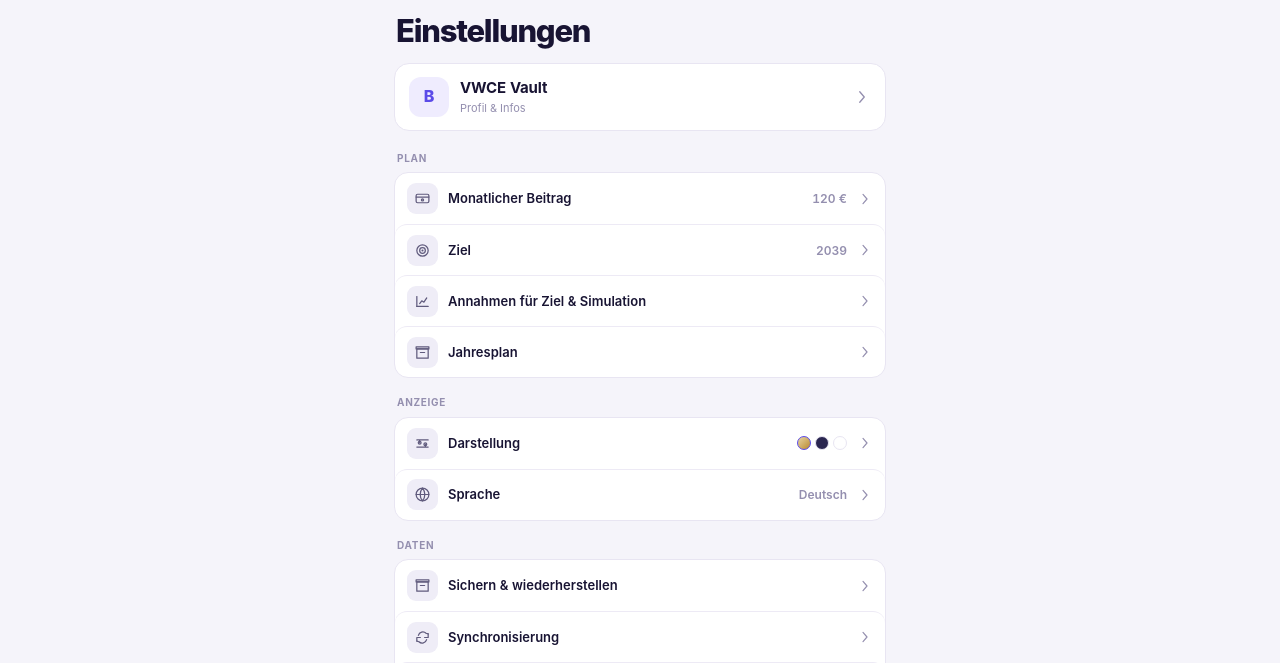
SettingsCboWorkspace yearly plan › keeps the yearly table localized in German
Click the button "Jahresplan".
click(422, 352)  # box [395,326,885,377]
(page scrolled)
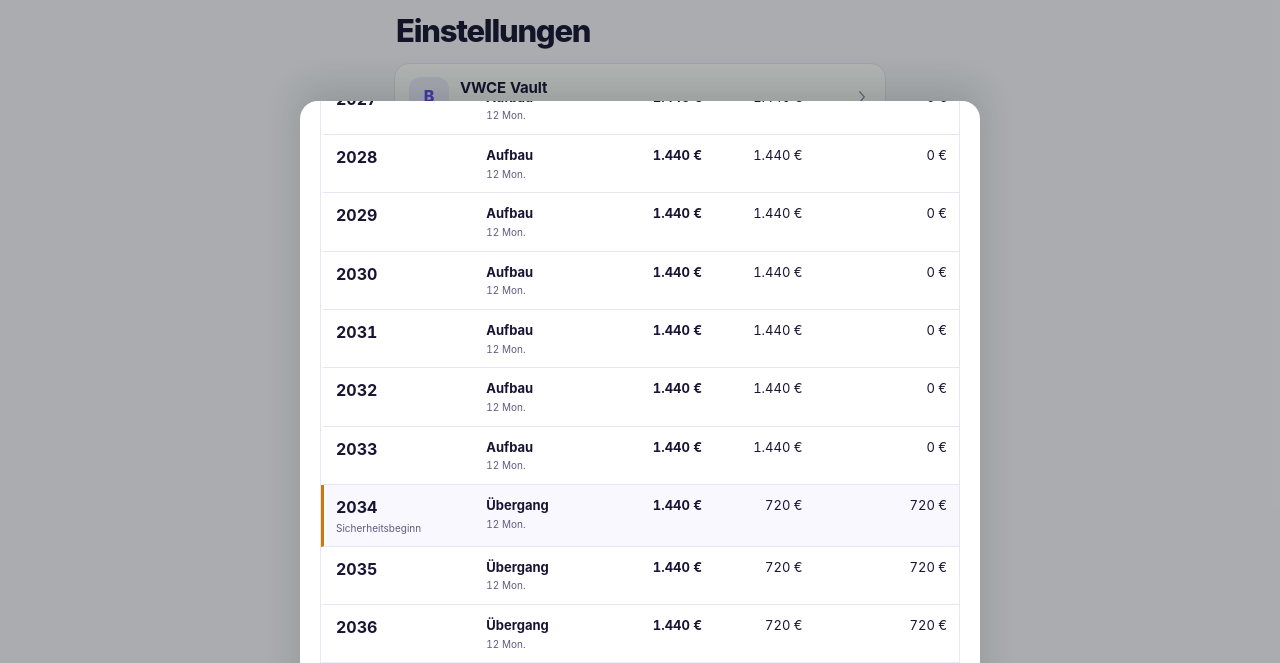
Check: the table with test id "p40-yearly-plan" shows "Sicherheitsbeginn", box [336,522,421,534]
